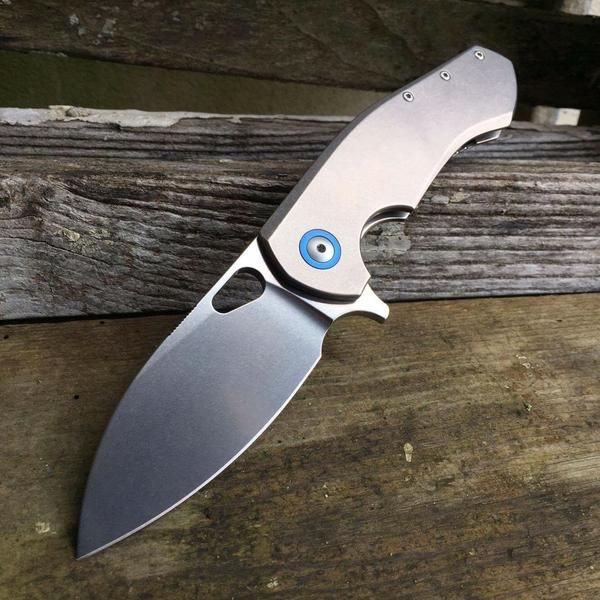knife: (72, 42, 528, 560)
